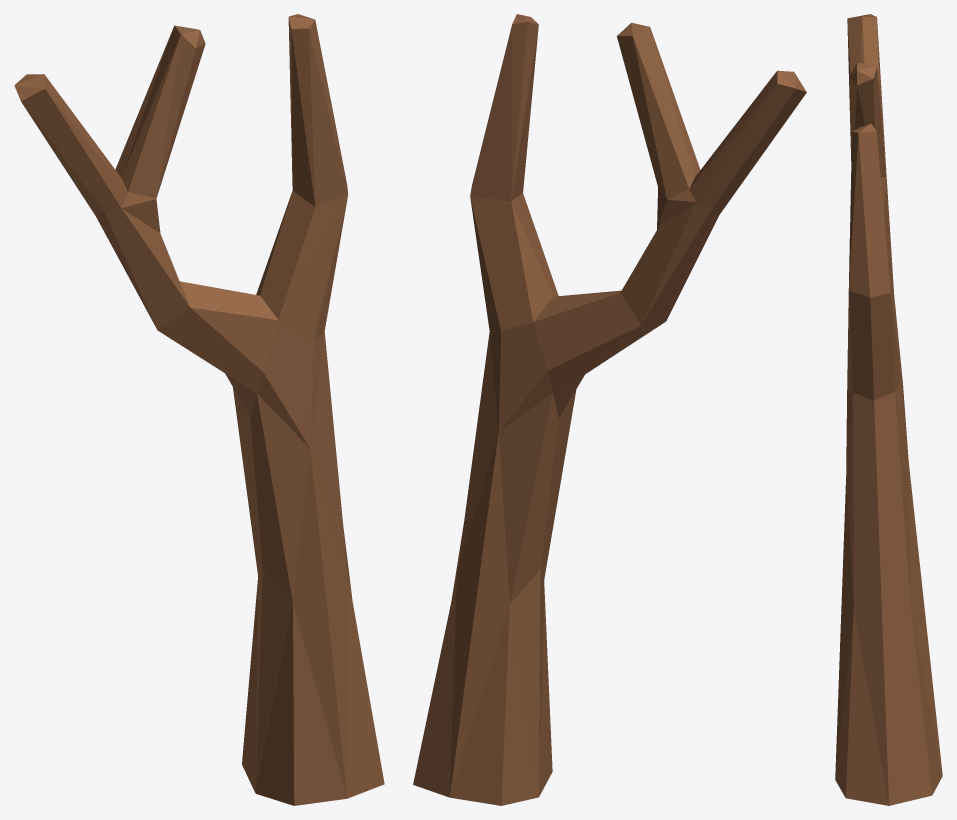
The model's file is tree-autumn-trunk-7-032.glb.
3 renders of one model, left to right at view 1: azimuth 30°, elevation 25°; view 2: azimuth 150°, elevation 25°; view 3: azimuth 270°, elevation 25°, orthographic. The views are drawn at different scales.
Visible parts, largest first — view 1: TREE 7.002_404; view 2: TREE 7.002_404; view 3: TREE 7.002_404.
Part boxes in pixels (<box>): TREE 7.002_404: <box>14,14,384,805</box>; TREE 7.002_404: <box>413,14,806,805</box>; TREE 7.002_404: <box>835,14,942,805</box>.
Size of the model in its own units: 0.4559 by 0.9351 by 0.1383.
